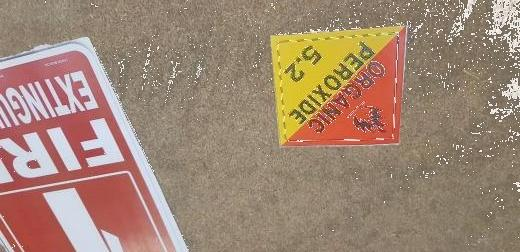organic-peroxide: (271, 25, 407, 148)
